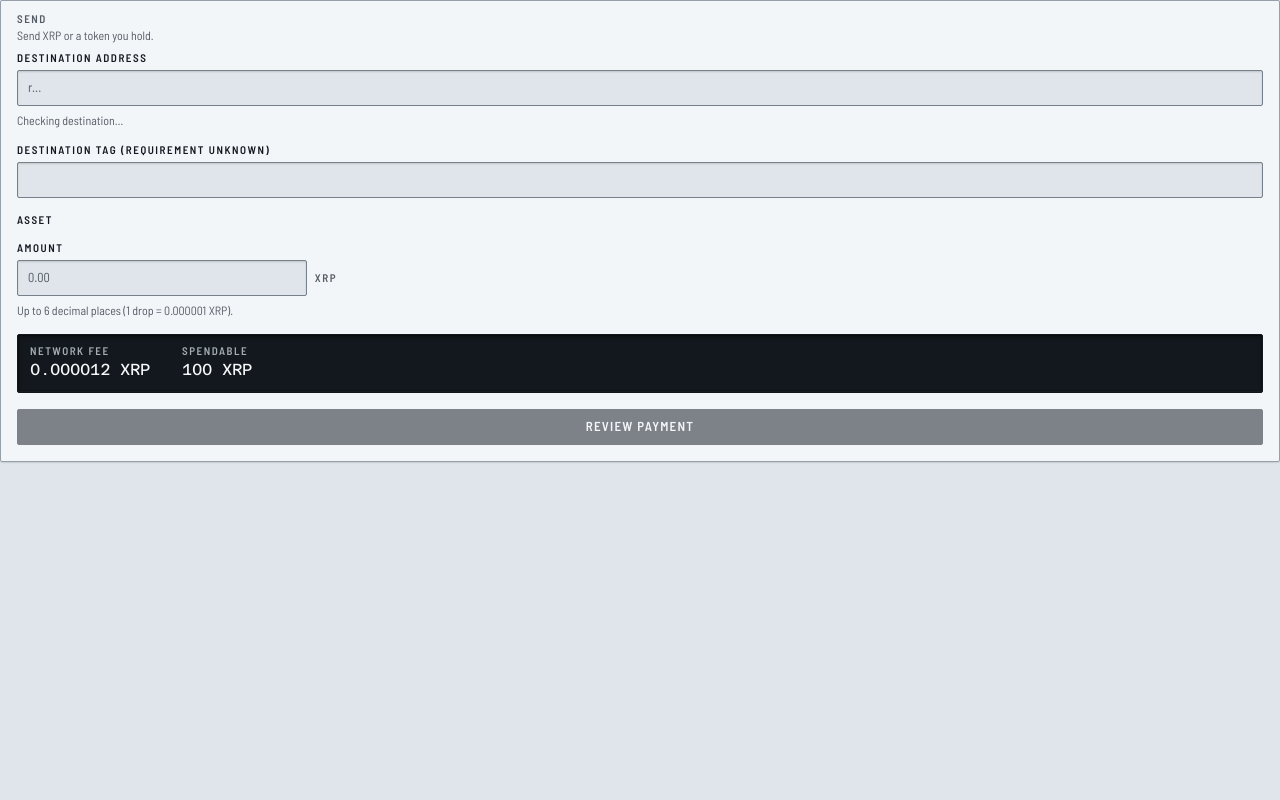
SendTab — the warning is decided on the network too › pre-epic-9 entry, tagged send: warns with the generic copy
Type "rHb9CJAWyB4rj91VRWn96DkukG4bwdtyTh" into the field labelled "Destination address" at (640, 88), box [17,70,1263,106]
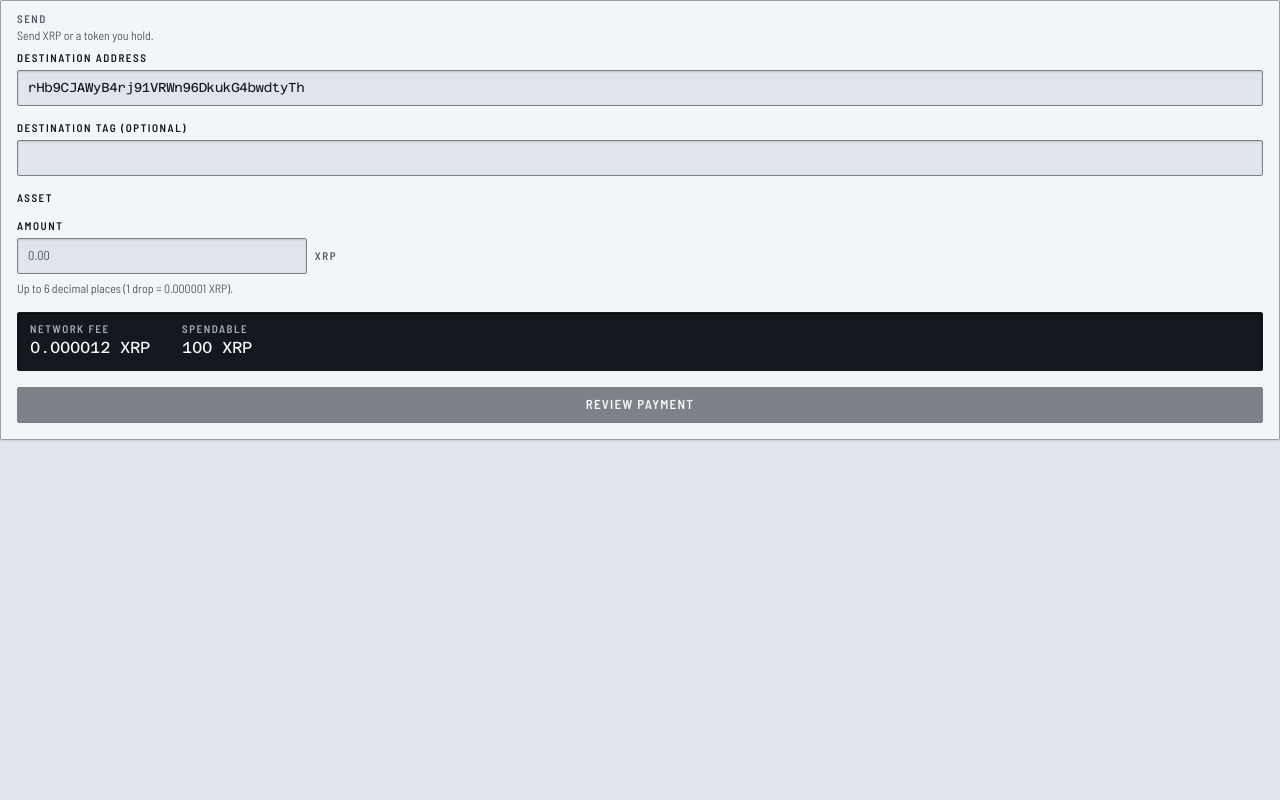
Type "1" into the field labelled "Amount" at (162, 256), box [17,238,307,274]
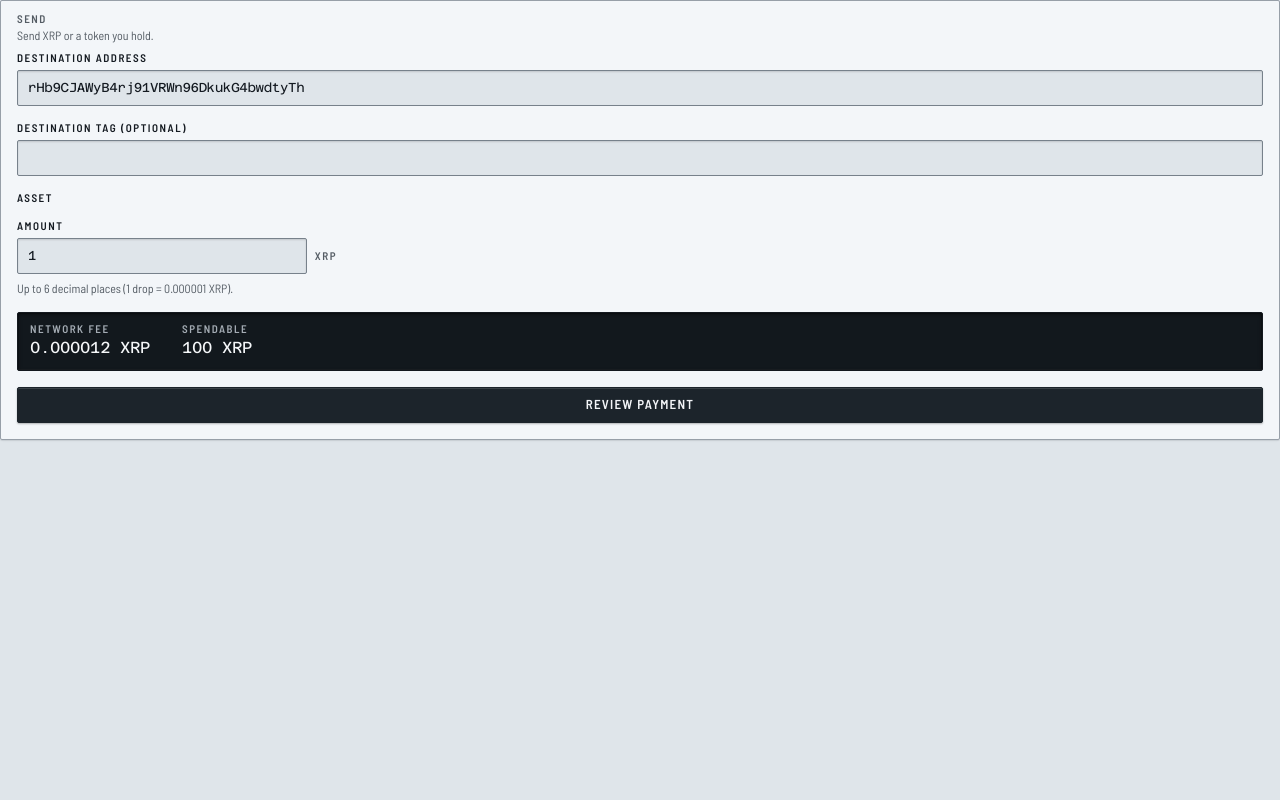
Type "5" into the field labelled "Destination tag (optional)" at (640, 158), box [17,140,1263,176]
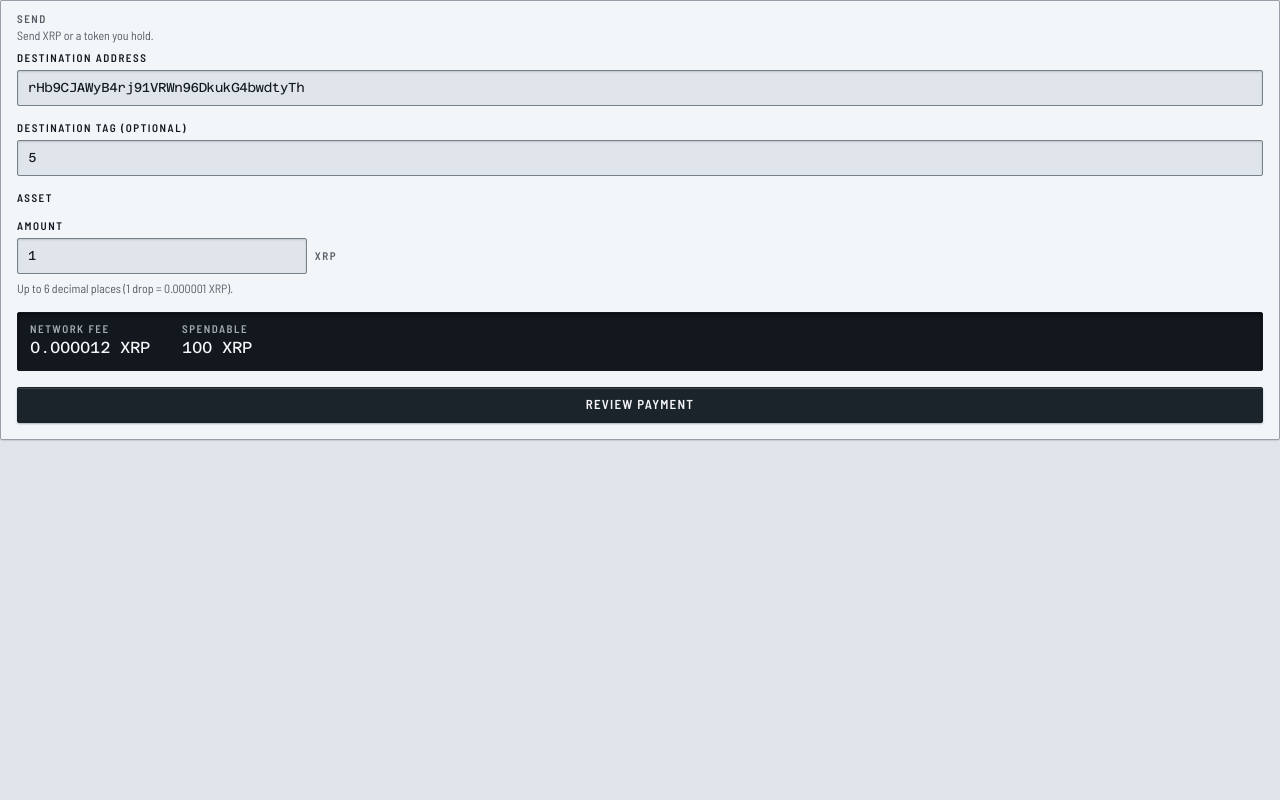
Click the button "Review payment" at (640, 405), box [17,387,1263,423]
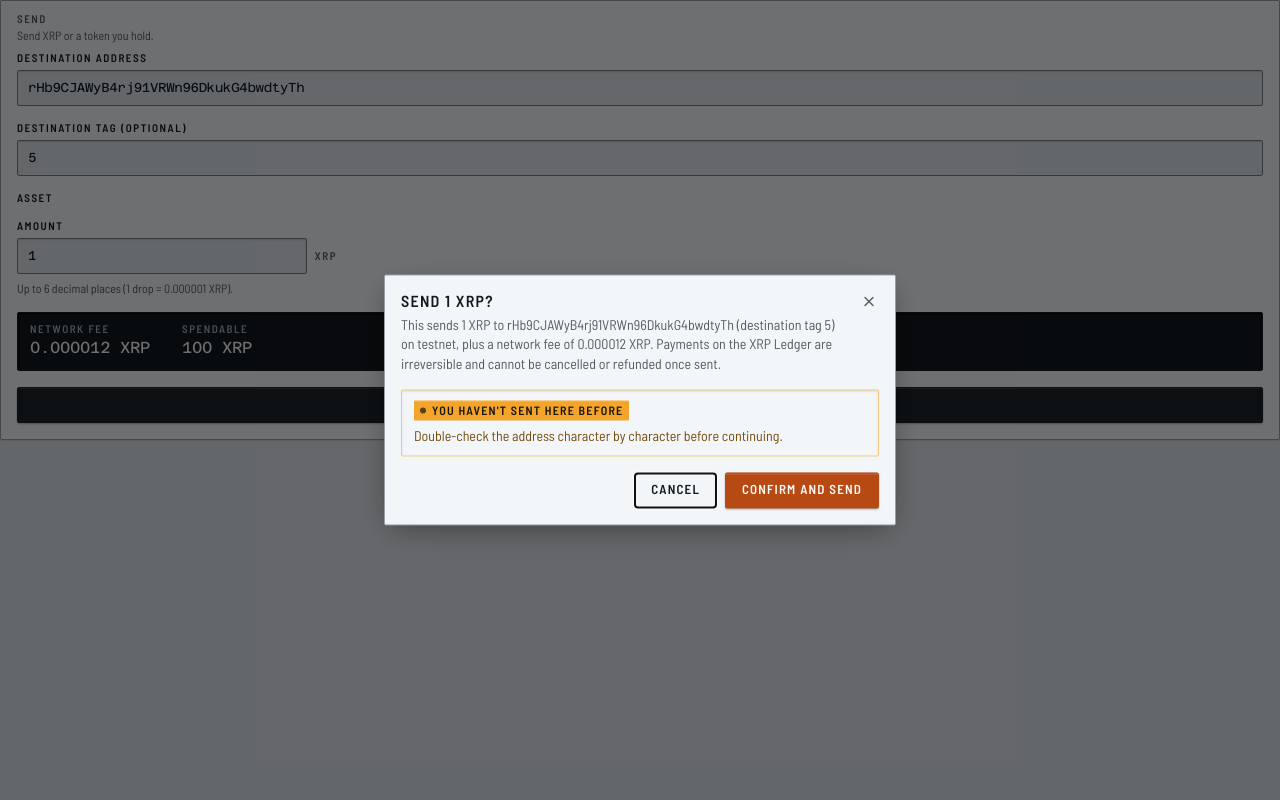
Now the text "You haven't sent here before" is shown, box [414,400,629,420]
